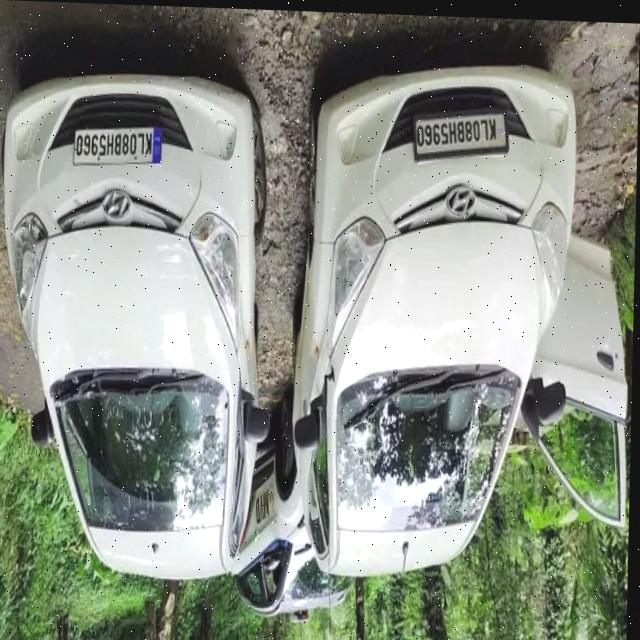plate: (411, 96, 511, 168), (71, 125, 167, 170)
